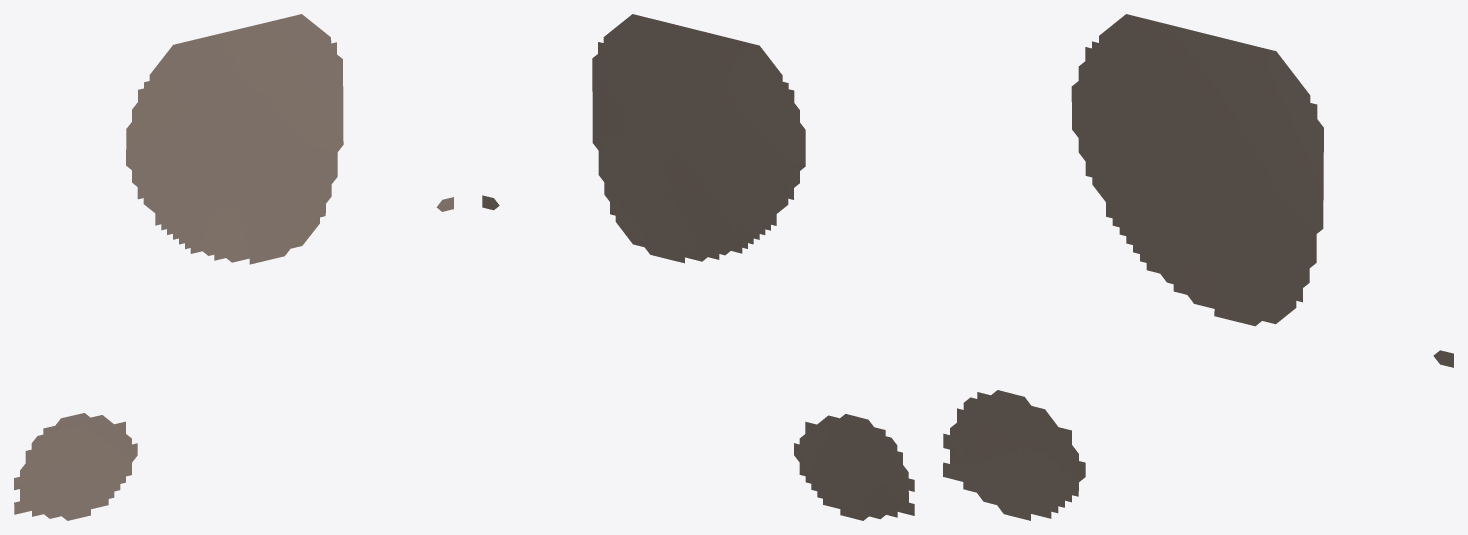
3 views of the same model, side by side, from view 1: azimuth 30°, elevation 25°; view 2: azimuth 150°, elevation 25°; view 3: azimuth 330°, elevation 25° (orthographic). The views are drawn at different scales.
Visible parts, largest first — view 1: world; view 2: world; view 3: world.
Boxes of the visible parts, box(x1,y1,x2,y2) form: world: box(14, 14, 453, 520); world: box(482, 14, 914, 520); world: box(943, 14, 1453, 520).
Size of the model in its own units: 7500 by 7400 by 96.98.
